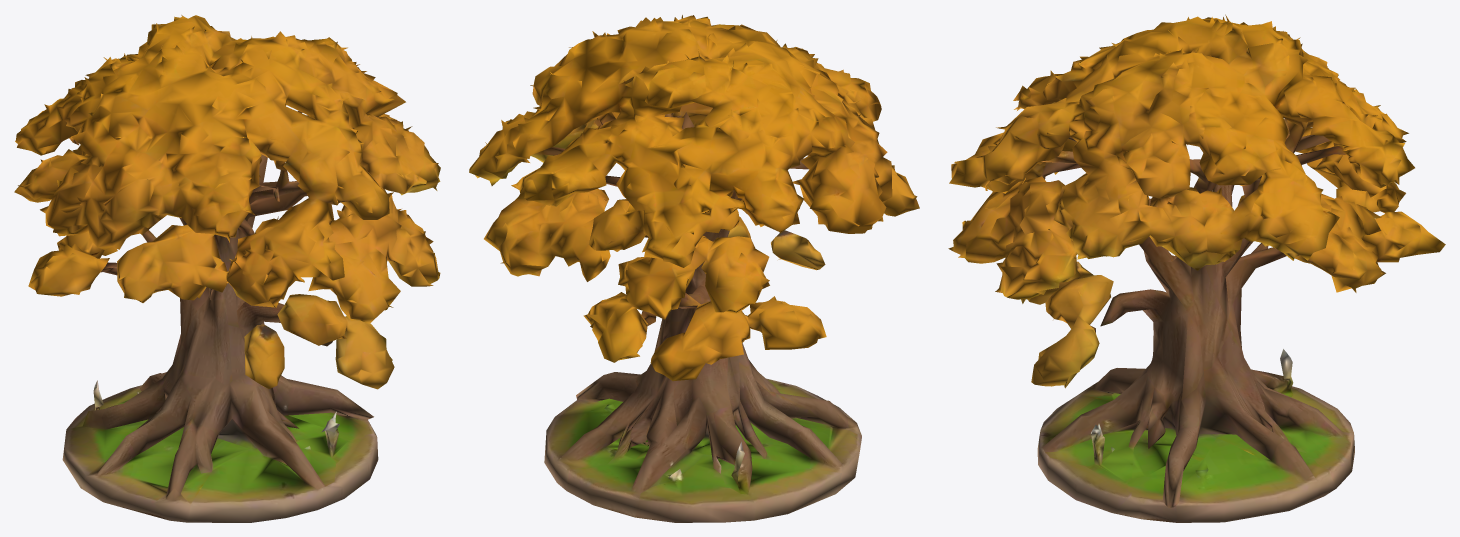
The picture shows the model from 3 angles, left to right: view 1: azimuth 30°, elevation 25°; view 2: azimuth 150°, elevation 25°; view 3: azimuth 270°, elevation 25°; orthographic projection.
Parts seen in each view (by area): view 1: tripo_node_d89eadd6-76a6-45b4-9c08-3742fb663458; view 2: tripo_node_d89eadd6-76a6-45b4-9c08-3742fb663458; view 3: tripo_node_d89eadd6-76a6-45b4-9c08-3742fb663458.
Part boxes in pixels (x1,y1,x2,y2): tripo_node_d89eadd6-76a6-45b4-9c08-3742fb663458: (14, 15, 440, 522); tripo_node_d89eadd6-76a6-45b4-9c08-3742fb663458: (469, 15, 919, 522); tripo_node_d89eadd6-76a6-45b4-9c08-3742fb663458: (948, 14, 1445, 522).
Size of the model in its own units: 0.8364 by 0.9631 by 0.9981.
1 material, 1 textured.
